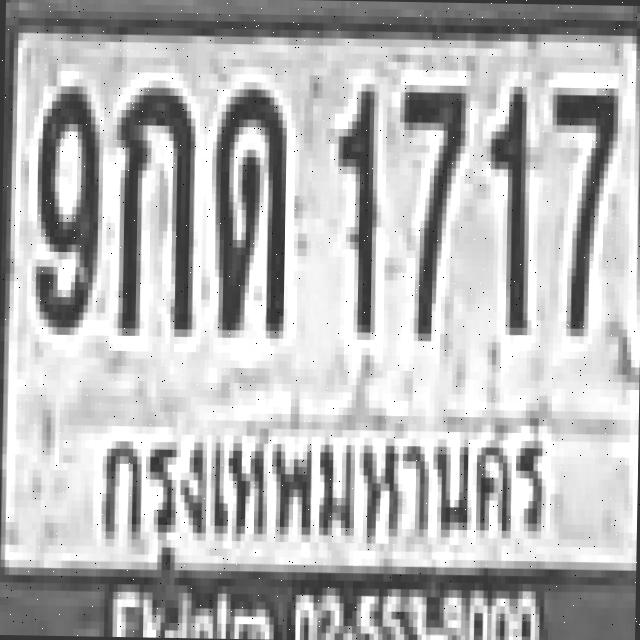1: (331, 79, 380, 332), (484, 78, 532, 336)
10GorGai: (112, 82, 197, 338)
29DorDek: (209, 82, 291, 340)
7: (396, 76, 466, 342), (546, 84, 616, 334)
9: (30, 78, 100, 333)
Bangkok: (76, 407, 561, 585)
